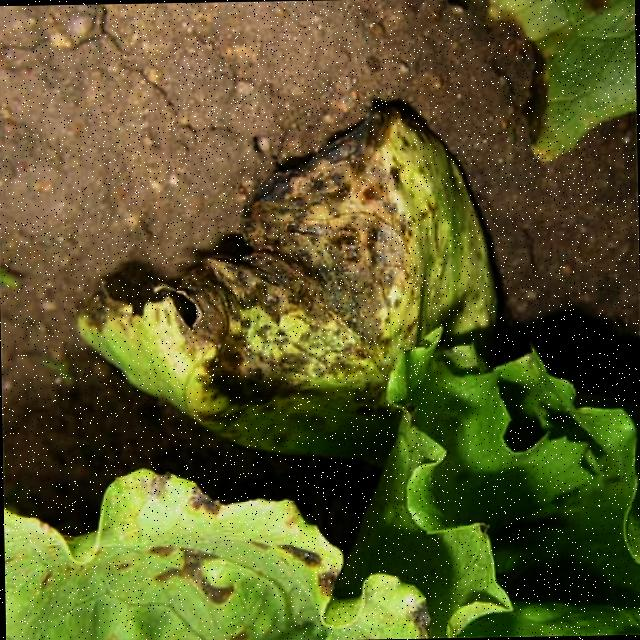Septoria_Blight_on_lettuce: (28, 478, 346, 640), (222, 188, 420, 420)
